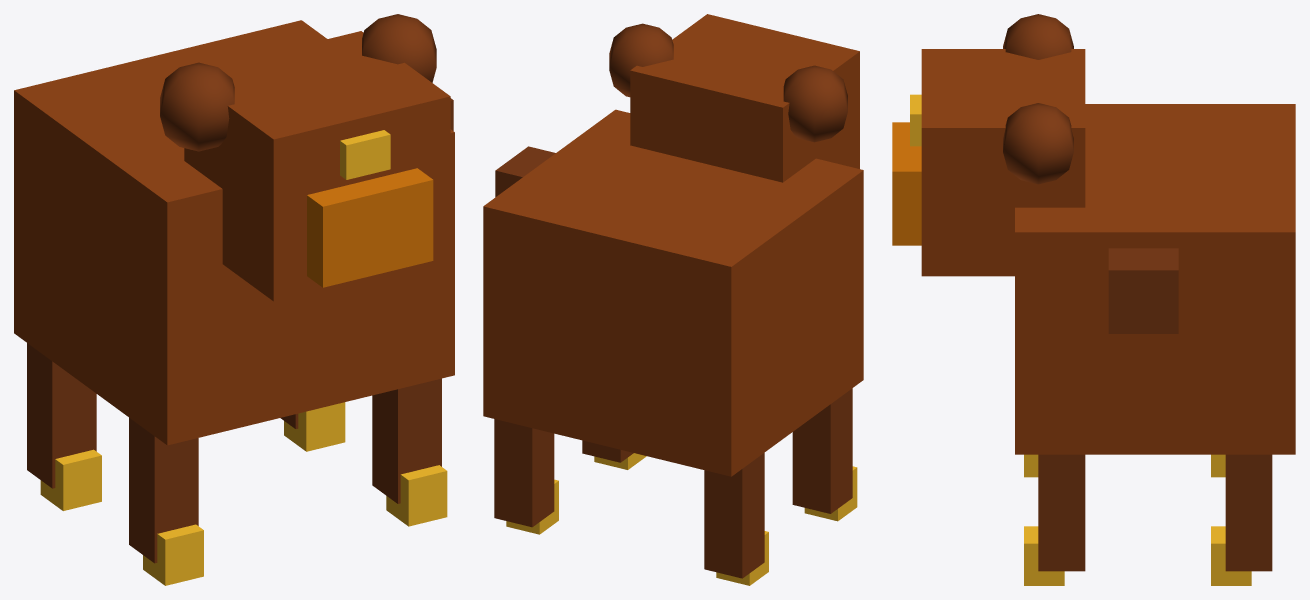
File: RescueBearA.glb
3 renders of one model, left to right at view 1: azimuth 30°, elevation 25°; view 2: azimuth 150°, elevation 25°; view 3: azimuth 270°, elevation 25°, orthographic. The views are drawn at different scales.
Visible parts, largest first — view 1: RescueBearBody; view 2: RescueBearBody; view 3: RescueBearBody.
Part boxes in pixels (x1,y1,x2,y2): RescueBearBody: (14,14,454,585); RescueBearBody: (483,14,863,585); RescueBearBody: (892,14,1295,585).
Size of the model in its own units: 0.61 by 0.87 by 0.69.
